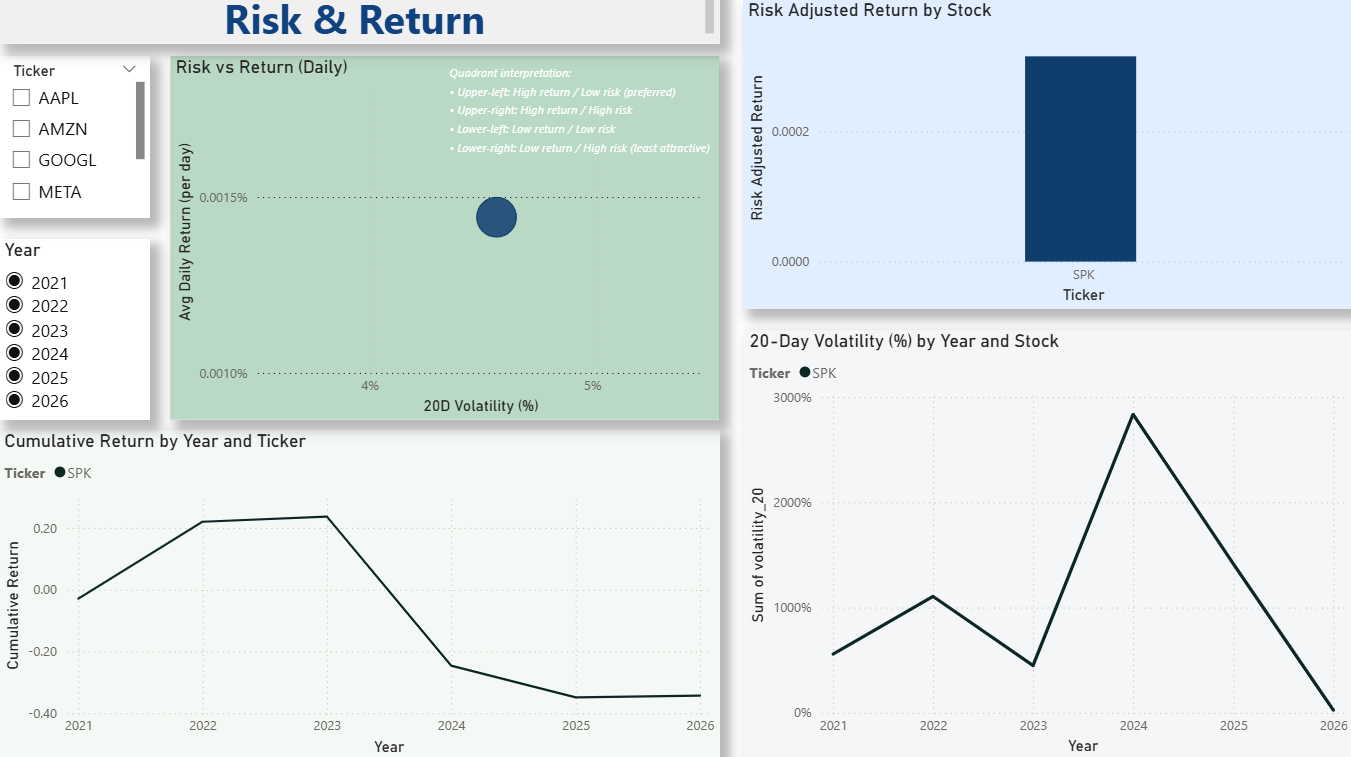

This screenshot's page, from the dashboard's own definition file:
{"tool":"powerbi","page":{"name":"Risk & Return","canvas":[1280,720],"ordinal":1},"visuals":[{"type":"scatterChart","title":"Risk vs Return (Daily)","fields":{"X":["_Measures.20D Volatility (%)"],"Y":["fact_prices_features.Avg Daily Return (%)"],"Category":["fact_prices_features.Ticker"],"Size":["Sum(fact_prices_features.Volume)"]},"box":[170,65,510,338.8],"z":0},{"type":"slicer","fields":{"Values":["fact_prices_features.Ticker"]},"box":[10,65,140,150],"z":1000},{"type":"textbox","box":[0,350,150,300],"z":2000},{"type":"textbox","box":[425,65,340,138.8],"z":3000},{"type":"lineChart","fields":{"Category":["fact_prices_features.Date_Only.Variation.Date Hierarchy.Year","fact_prices_features.Date_Only.Variation.Date Hierarchy.Quarter","fact_prices_features.Date_Only.Variation.Date Hierarchy.Month","fact_prices_features.Date_Only.Variation.Date Hierarchy.Day"],"Y":["_Measures.Cumulative Return"],"Series":["fact_prices_features.Ticker"]},"box":[10,412.5,670,307.5],"z":4000},{"type":"clusteredColumnChart","title":"Risk Adjusted Return by Stock","fields":{"Category":["fact_prices_features.Ticker"],"Y":["_Measures.Risk Adjusted Return"]},"box":[702.5,11.2,567.5,288.8],"z":5000},{"type":"lineChart","title":"20-Day Volatility (%) by Year and Stock","fields":{"Category":["fact_prices_features.Date_Only.Variation.Date Hierarchy.Year","fact_prices_features.Date_Only.Variation.Date Hierarchy.Quarter","fact_prices_features.Date_Only.Variation.Date Hierarchy.Month","fact_prices_features.Date_Only.Variation.Date Hierarchy.Day"],"Y":["Sum(fact_prices_features.volatility_20)"],"Series":["fact_prices_features.Ticker"]},"box":[703.8,320,566.2,400],"z":6000},{"type":"listSlicer","fields":{"Values":["DateTable.Year"]},"box":[10,235,140,168.8],"z":7000},{"type":"textbox","box":[10,0,670,53.8],"z":8000}]}

Visuals, with their boxes in screenshot pixels (x1, y1, x2, y2), scaled from the page's 1280x720 canvas onto the 1351x757 screenshot:
"Risk vs Return (Daily)" scatterChart: x1=179, y1=68, x2=718, y2=425
slicer - fact_prices_features.Ticker: x1=11, y1=68, x2=158, y2=226
textbox: x1=0, y1=368, x2=158, y2=683
textbox: x1=449, y1=68, x2=807, y2=214
lineChart - fact_prices_features.Date_Only.Variation.Date Hierarchy.Year x fact_prices_features.Date_Only.Variation.Date Hierarchy.Quarter: x1=11, y1=434, x2=718, y2=756
"Risk Adjusted Return by Stock" clusteredColumnChart: x1=741, y1=12, x2=1340, y2=315
"20-Day Volatility (%) by Year and Stock" lineChart: x1=743, y1=336, x2=1340, y2=756
listSlicer - DateTable.Year: x1=11, y1=247, x2=158, y2=425
textbox: x1=11, y1=0, x2=718, y2=57
